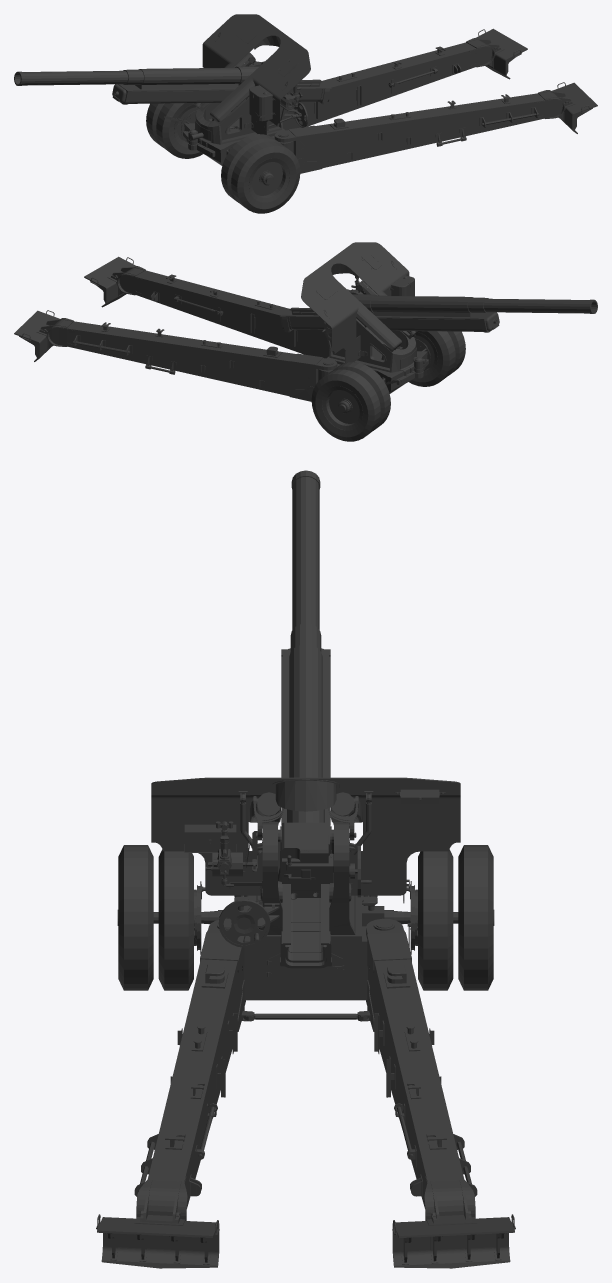
3 views of the same model, one above another, from view 1: azimuth 30°, elevation 25°; view 2: azimuth 150°, elevation 25°; view 3: azimuth 270°, elevation 25° (orthographic). The views are drawn at different scales.
Visible parts, largest first — view 1: trailR, trailL, body__1, cradle, cradle__1, wR, wL, barrel; view 2: trailL, trailR, cradle, body__1, wL, cradle__1, wR, barrel; view 3: trailR, trailL, body__1, cradle__1, cradle, wL, wR, barrel.
Part boxes in pixels (bbox=[...]): trailR: bbox=[274, 82, 597, 173]; trailL: bbox=[282, 28, 527, 130]; body__1: bbox=[184, 14, 331, 165]; cradle: bbox=[118, 59, 329, 152]; cradle__1: bbox=[125, 25, 331, 157]; wR: bbox=[221, 134, 300, 213]; wL: bbox=[146, 103, 212, 158]; barrel: bbox=[14, 70, 131, 104]; trailL: bbox=[14, 310, 337, 401]; trailR: bbox=[84, 256, 359, 358]; cradle: bbox=[282, 287, 493, 377]; body__1: bbox=[280, 242, 427, 393]; wL: bbox=[311, 362, 398, 441]; cradle__1: bbox=[280, 251, 486, 385]; wR: bbox=[399, 331, 465, 386]; barrel: bbox=[480, 298, 597, 332]; trailR: bbox=[96, 821, 305, 1268]; trailL: bbox=[306, 918, 515, 1268]; body__1: bbox=[151, 777, 460, 1000]; cradle__1: bbox=[184, 623, 445, 992]; cradle: bbox=[205, 644, 406, 960]; wL: bbox=[368, 845, 494, 990]; wR: bbox=[117, 845, 243, 990]; barrel: bbox=[281, 470, 330, 656].
Bounding box in the file's own units: 6.97 × 1.96 × 2.37.
1 material, 1 textured.
